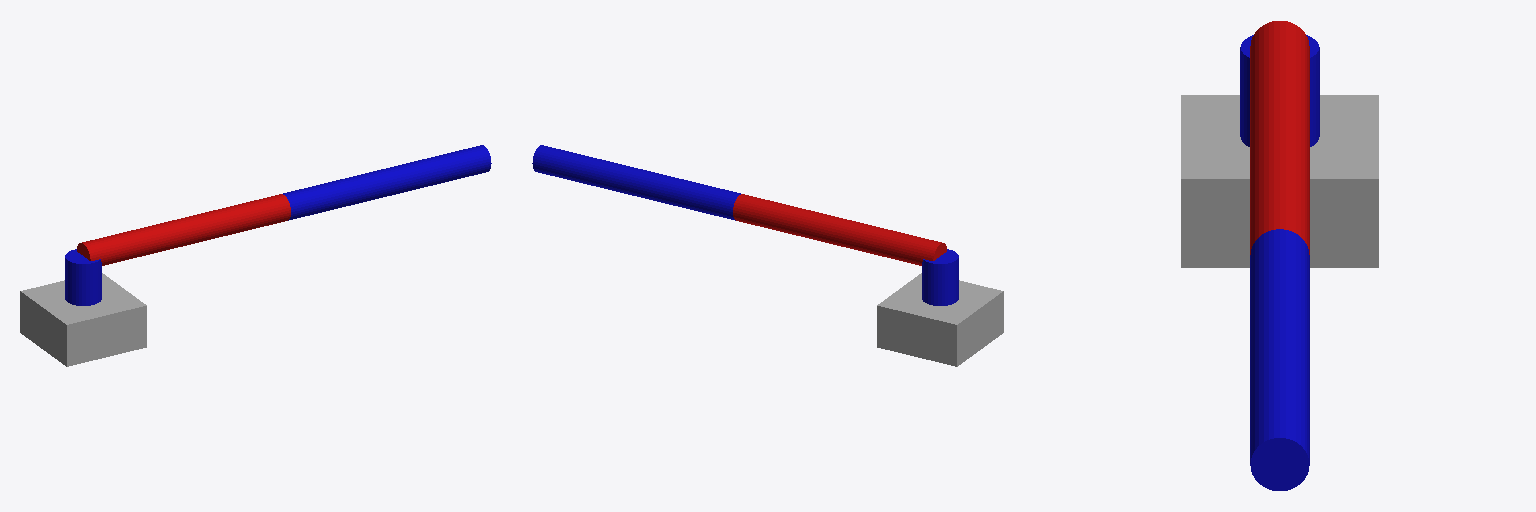
The robot description file, URDF, robot "four_dof_arm_with_gripper":
<?xml version="1.0"?>
<robot name="four_dof_arm_with_gripper">
    <!-- Material Definitions -->
    <material name="blue">
        <color rgba="0.1 0.1 0.8 1.0"/>
    </material>
    <material name="red">
        <color rgba="0.8 0.1 0.1 1.0"/>
    </material>
    <material name="grey">
        <color rgba="0.7 0.7 0.7 1.0"/>
    </material>
    
    <!-- BASE LINK (No Change) -->
    <link name="base_link">
        <visual>
            <origin xyz="0 0 0.05" rpy="0 0 0"/>
            <geometry><box size="0.2 0.2 0.1"/></geometry>
            <material name="grey"/>
        </visual>
        <collision>
            <origin xyz="0 0 0.05" rpy="0 0 0"/>
            <geometry><box size="0.2 0.2 0.1"/></geometry>
        </collision>
        <inertial>
            <origin xyz="0 0 0" rpy="0 0 0"/>
            <mass value="1.0"/>
            <inertia ixx="0.01" ixy="0" ixz="0" iyy="0.01" iyz="0" izz="0.01"/>
        </inertial>
    </link>

    <!-- JOINT 1 (No Change) -->
    <joint name="joint1_base_yaw" type="revolute">
        <origin xyz="0 0 0.1" rpy="0 0 0"/>
        <parent link="base_link"/>
        <child link="link1_shoulder"/>
        <axis xyz="0 0 1"/>
        <limit effort="100.0" velocity="0.5" lower="-3.14" upper="3.14"/>
    </joint>

    <!-- LINK 1 (No Change) -->
    <link name="link1_shoulder">
        <visual>
            <origin xyz="0 0 0.05" rpy="0 0 0"/>
            <geometry><cylinder radius="0.04" length="0.1"/></geometry>
            <material name="blue"/>
        </visual>
        <collision>
            <origin xyz="0 0 0.05" rpy="0 0 0"/>
            <geometry><cylinder radius="0.04" length="0.1"/></geometry>
        </collision>
        <inertial>
            <origin xyz="0 0 0" rpy="0 0 0"/>
            <mass value="0.5"/>
            <inertia ixx="0.005" ixy="0" ixz="0" iyy="0.005" iyz="0" izz="0.005"/>
        </inertial>
    </link>

    <!-- JOINT 2 (No Change) -->
    <joint name="joint2_shoulder_pitch" type="revolute">
        <origin xyz="0 0 0.1" rpy="0 0 0"/>
        <parent link="link1_shoulder"/>
        <child link="link2_upper_arm"/>
        <axis xyz="0 1 0"/>
        <limit effort="100.0" velocity="0.5" lower="-1.57" upper="1.57"/>
    </joint>

    <!-- LINK 2 (No Change) -->
    <link name="link2_upper_arm">
        <visual>
            <origin xyz="0.25 0 0" rpy="0 1.5708 0"/> 
            <geometry><cylinder radius="0.03" length="0.5"/></geometry>
            <material name="red"/>
        </visual>
        <collision>
            <origin xyz="0.25 0 0" rpy="0 1.5708 0"/>
            <geometry><cylinder radius="0.03" length="0.5"/></geometry>
        </collision>
        <inertial>
            <origin xyz="0 0 0" rpy="0 1.5708 0"/> 
            <mass value="0.75"/>
            <inertia ixx="0.0075" ixy="0" ixz="0" iyy="0.0075" iyz="0" izz="0.0075"/>
        </inertial>
    </link>

    <!-- JOINT 3 (No Change) -->
    <joint name="joint3_elbow_pitch" type="revolute">
        <origin xyz="0.5 0 0" rpy="0 0 0"/>
        <parent link="link2_upper_arm"/>
        <child link="link3_forearm"/>
        <axis xyz="0 1 0"/> 
        <limit effort="100.0" velocity="0.5" lower="-2.0" upper="2.0"/> 
    </joint>

    <!-- LINK 3 (No Change) -->
    <link name="link3_forearm">
        <visual>
            <origin xyz="0.25 0 0" rpy="0 1.5708 0"/>
            <geometry><cylinder radius="0.03" length="0.5"/></geometry>
            <material name="blue"/>
        </visual>
        <collision>
            <origin xyz="0.25 0 0" rpy="0 1.5708 0"/>
            <geometry><cylinder radius="0.03" length="0.5"/></geometry>
        </collision>
        <inertial>
            <origin xyz="0.25 0 0" rpy="0 1.5708 0"/>
            <mass value="0.5"/>
            <inertia ixx="0.005" ixy="0" ixz="0" iyy="0.005" iyz="0" izz="0.005"/>
        </inertial>
    </link>
    <!-- JOINT 4: WRIST PITCH -->
    <joint name="joint4_wrist_pitch" type="revolute">
        <origin xyz="0.5 0 0" rpy="0 0 0"/>
        <parent link="link3_forearm"/>
        <child link="gripper_base"/>
        <axis xyz="0 1 0"/>
        <limit effort="50.0" velocity="1.0" lower="-3.14" upper="3.14"/>
    </joint>

    <!-- GRIPPER BASE (BOTTOM PLATE) -->
    <link name="gripper_base">
        <visual>
            <origin xyz="0 0 0" rpy="0 0 0"/>
            <geometry>
                <mesh filename="meshes/gripper_plate_bottom.stl" scale="0.001 0.001 0.001"/>
            </geometry>
        </visual>
        <collision>
            <origin xyz="0 0 0" rpy="0 0 0"/>
            <geometry>
                <mesh filename="meshes/gripper_plate_bottom.stl" scale="0.001 0.001 0.001"/>
            </geometry>
        </collision>
        <inertial>
            <mass value="0.05"/>
            <inertia ixx="0.0001" ixy="0" ixz="0" iyy="0.0001" iyz="0" izz="0.0001"/>
        </inertial>
    </link>

    <!-- TOP PLATE (FIXED TO BASE) -->
    <link name="gripper_top_plate">
        <visual>
            <origin xyz="0 0 0.01" rpy="0 0 0"/>
            <geometry>
                <mesh filename="meshes/gripper_plate_top.stl" scale="0.001 0.001 0.001"/>
            </geometry>
        </visual>
    </link>

    <joint name="gripper_fixed_top" type="fixed">
        <origin xyz="0 0 0" rpy="0 0 0"/>
        <parent link="gripper_base"/>
        <child link="gripper_top_plate"/>
    </joint>

    <!-- LEFT FINGER -->
    <joint name="gripper_joint_left" type="prismatic">
        <origin xyz="0 0.02 0" rpy="0 0 0"/>
        <parent link="gripper_base"/>
        <child link="gripper_left"/>
        <axis xyz="0 1 0"/>
        <limit effort="20.0" velocity="0.3" lower="0.0" upper="0.03"/>
    </joint>

    <link name="gripper_left">
        <visual>
            <origin xyz="0 0.02 0" rpy="0 0 0"/>
            <geometry>
                <mesh filename="meshes/gripper_left.stl" scale="0.001 0.001 0.001"/>
            </geometry>
        </visual>
        <collision>
            <origin xyz="0 0.02 0" rpy="0 0 0"/>
            <geometry>
                <mesh filename="meshes/gripper_left.stl" scale="0.001 0.001 0.001"/>
            </geometry>
        </collision>
    </link>

    <!-- RIGHT FINGER -->
    <joint name="gripper_joint_right" type="prismatic">
        <origin xyz="0 -0.02 0" rpy="0 0 0"/>
        <parent link="gripper_base"/>
        <child link="gripper_right"/>
        <axis xyz="0 -1 0"/>
        <limit effort="20.0" velocity="0.3" lower="0.0" upper="0.03"/>
    </joint>

    <link name="gripper_right">
        <visual>
            <origin xyz="0 -0.02 0" rpy="0 0 0"/>
            <geometry>
                <mesh filename="meshes/gripper_right.stl" scale="0.001 0.001 0.001"/>
            </geometry>
        </visual>
        <collision>
            <origin xyz="0 -0.02 0" rpy="0 0 0"/>
            <geometry>
                <mesh filename="meshes/gripper_right.stl" scale="0.001 0.001 0.001"/>
            </geometry>
        </collision>
    </link>



</robot>

--- Facts derived from the render (not from the file) ---
3 views of the same robot in one strip: view 1: azimuth 30°, elevation 25°; view 2: azimuth 150°, elevation 25°; view 3: azimuth 270°, elevation 25° (orthographic).
Robot: four_dof_arm_with_gripper — 8 links, 7 joints (4 revolute, 2 prismatic, 1 fixed); root link base_link; default pose: all joints at 0.
Links seen in each view (by area): view 1: base_link, link2_upper_arm, link3_forearm, link1_shoulder; view 2: base_link, link2_upper_arm, link3_forearm, link1_shoulder; view 3: base_link, link3_forearm, link2_upper_arm, link1_shoulder.
Link boxes in pixels (x1,y1,x2,y2): base_link: [20, 273, 146, 366]; link2_upper_arm: [77, 194, 290, 265]; link3_forearm: [283, 145, 491, 220]; link1_shoulder: [65, 249, 101, 305]; base_link: [877, 273, 1003, 366]; link2_upper_arm: [733, 194, 946, 265]; link3_forearm: [532, 145, 740, 220]; link1_shoulder: [922, 249, 958, 305]; base_link: [1181, 95, 1378, 267]; link3_forearm: [1250, 229, 1309, 490]; link2_upper_arm: [1250, 21, 1309, 254]; link1_shoulder: [1240, 35, 1319, 146].
Bounding box of the posed robot: 1.1 × 0.2 × 0.23 m (x, y, z).
Meshes: 4 distinct files referenced, 0 mesh visuals loaded (none loaded); not drawn: 4 (reference not matched to a file when rendering).